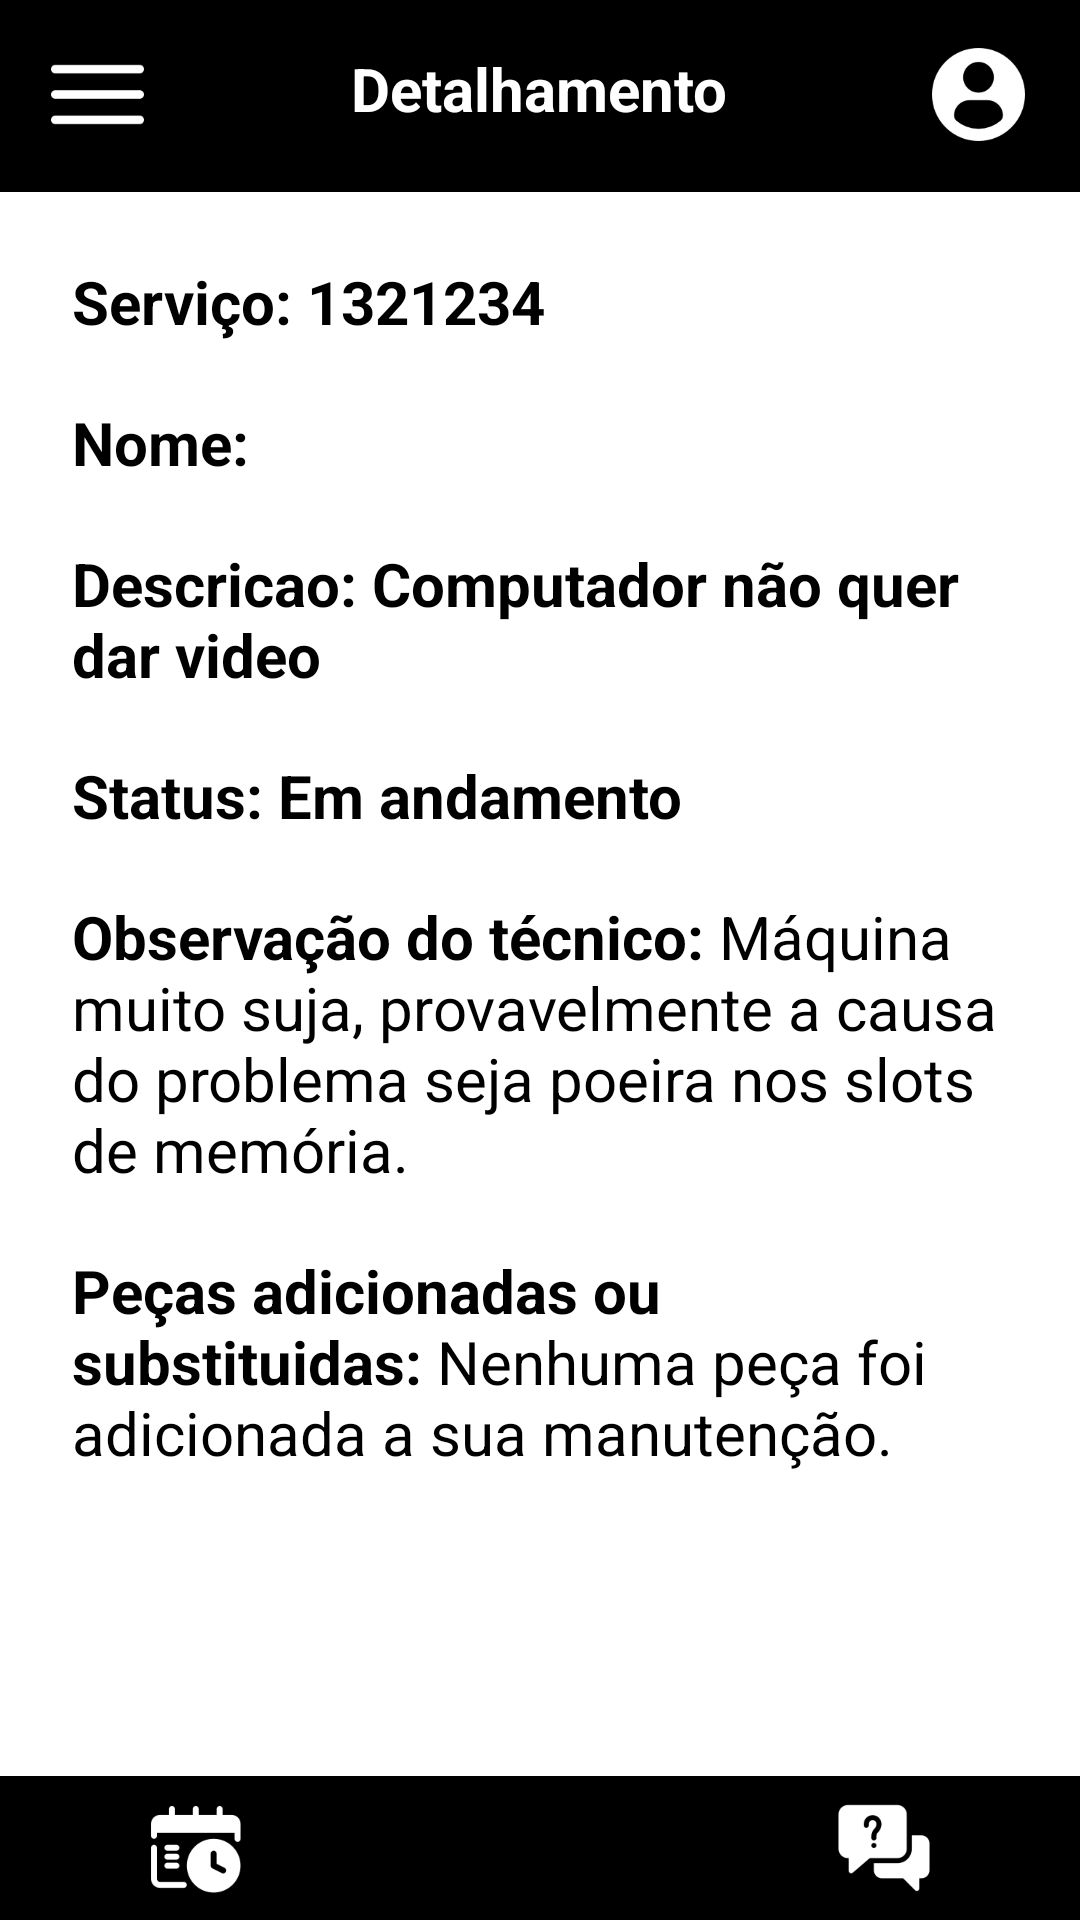

Locate icon controls on the screen. Image size 1080px x 1920px, boxes as (x1, y1, x2, y2).
Help Bottom: (838, 1804, 930, 1891)
Menu Icon: (51, 64, 144, 125)
User Icon: (932, 48, 1025, 141)
